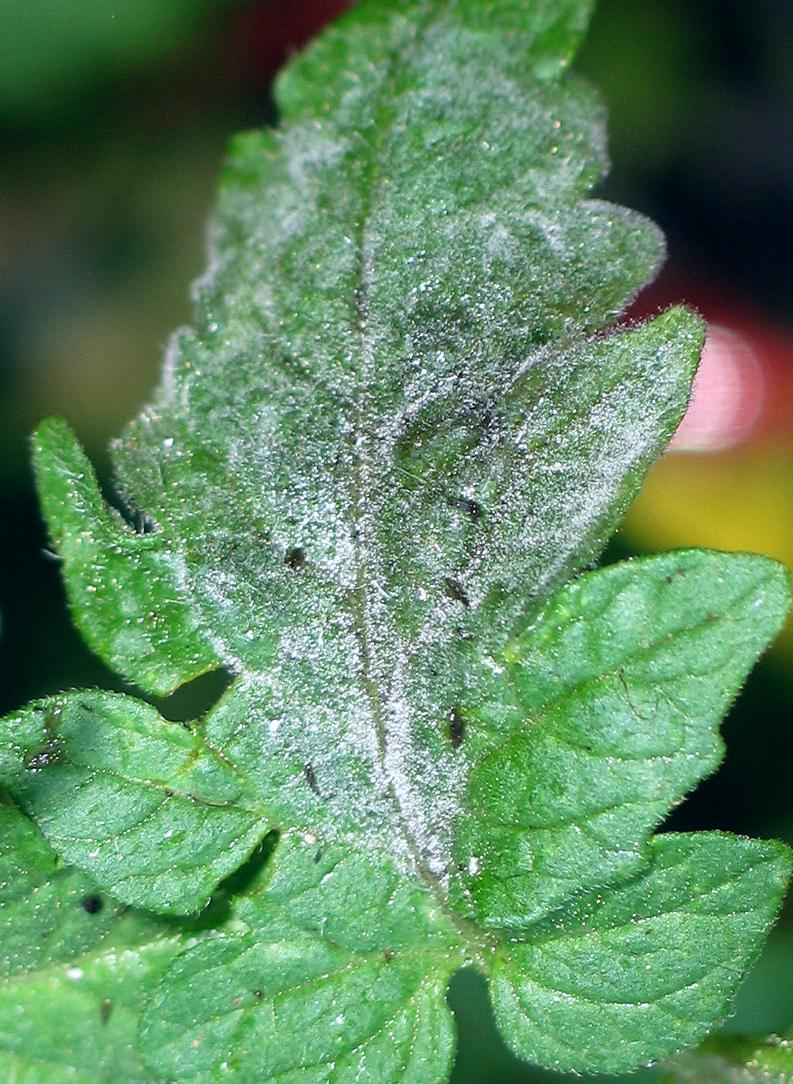Tomato leaf late blight: (0, 0, 783, 1084)
